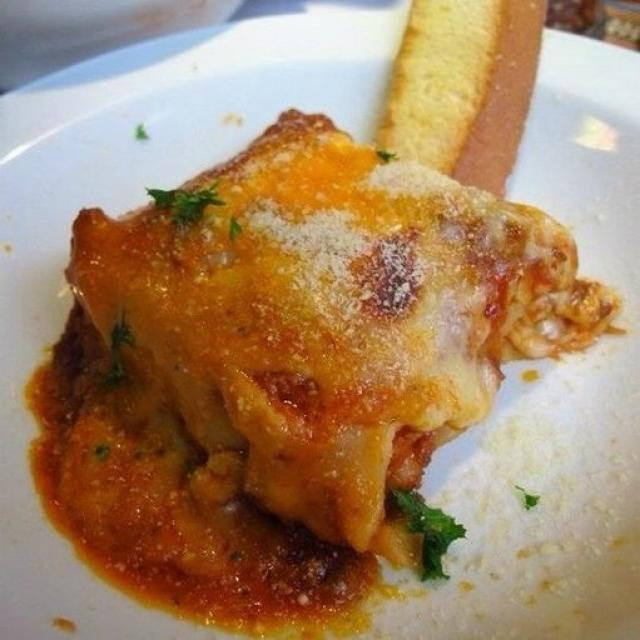Lasagna: (55, 100, 595, 556)
